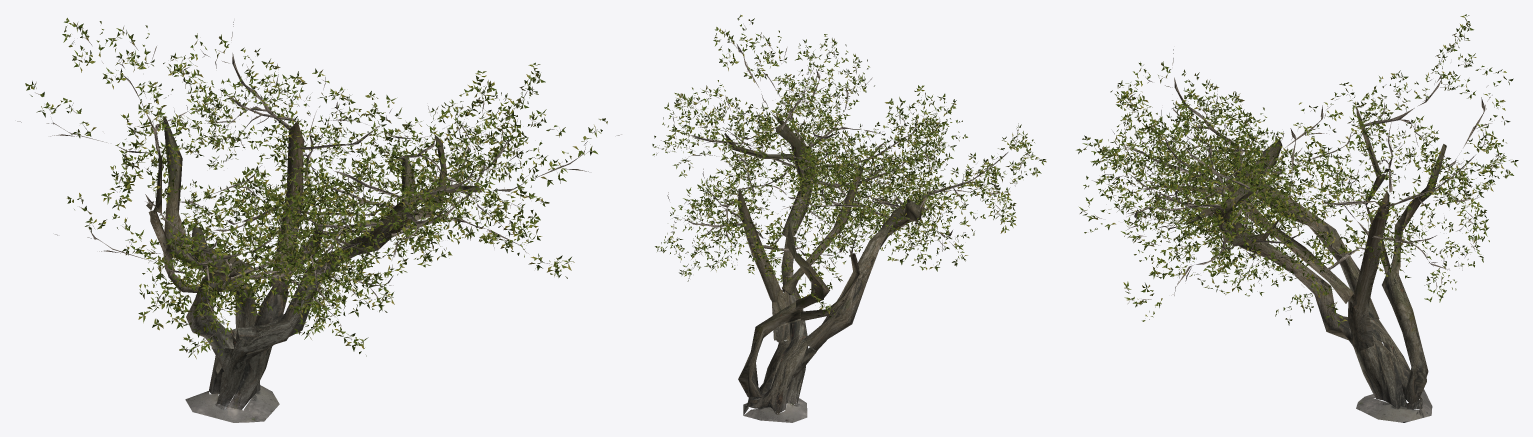
File: island_tree_02_lod0.gltf
The picture shows the model from 3 angles, left to right: view 1: azimuth 30°, elevation 25°; view 2: azimuth 150°, elevation 25°; view 3: azimuth 270°, elevation 25°; orthographic projection. The views are drawn at different scales.
Visible parts, largest first — view 1: island_tree_02_lod0; view 2: island_tree_02_lod0; view 3: island_tree_02_lod0.
Part boxes in pixels (<box>): island_tree_02_lod0: <box>17,18,621,422</box>; island_tree_02_lod0: <box>652,15,1046,422</box>; island_tree_02_lod0: <box>1076,14,1518,422</box>.
Bounding box in the file's own units: 4.12 × 3.4 × 4.06.
3 materials, 3 textured.
